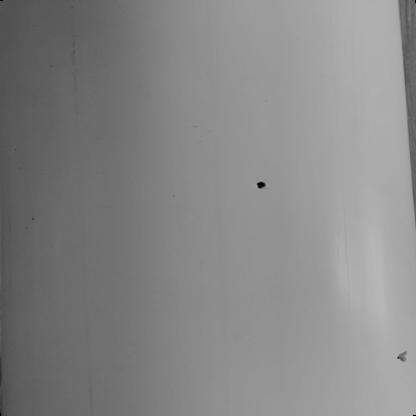kongdong: (376, 328, 415, 377), (251, 171, 281, 198)
